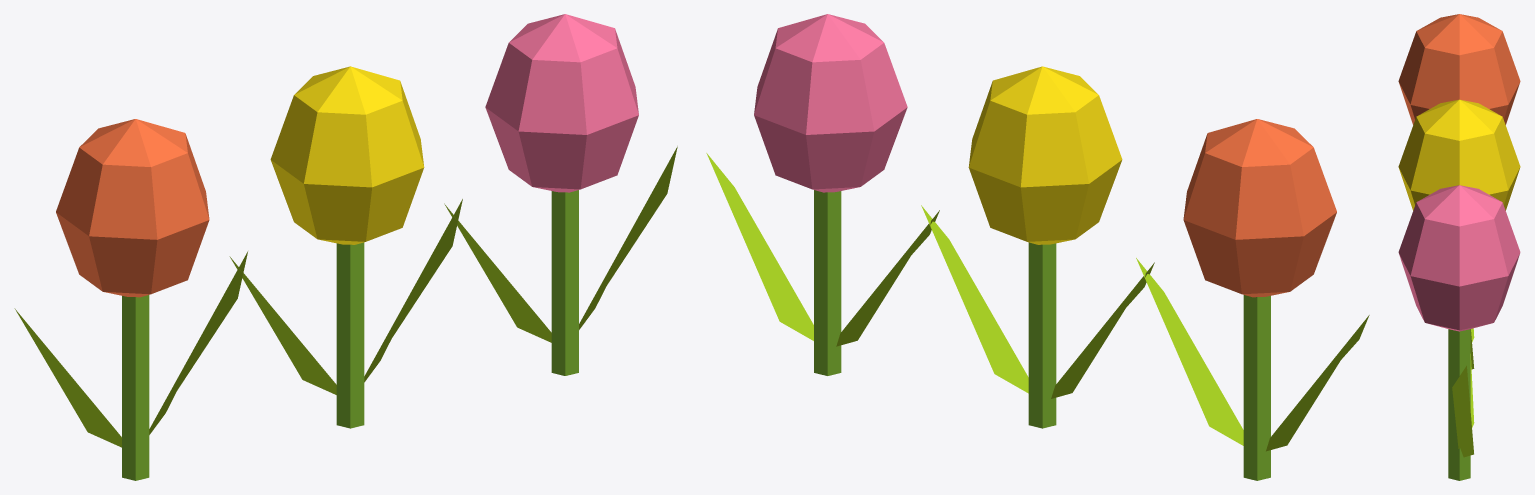
Rendered from Flowers_Tulips.glb.
3 views of the same model, side by side, from view 1: azimuth 30°, elevation 25°; view 2: azimuth 150°, elevation 25°; view 3: azimuth 270°, elevation 25° (orthographic). The views are drawn at different scales.
Parts seen in each view (by area): view 1: Flowers_Tulips; view 2: Flowers_Tulips; view 3: Flowers_Tulips.
Boxes of the visible parts, x1,y1,x2,y2 form: Flowers_Tulips: [14, 14, 677, 480]; Flowers_Tulips: [706, 14, 1369, 480]; Flowers_Tulips: [1398, 14, 1520, 480].
Size of the model in its own units: 1.7 by 0.87 by 0.3315.
